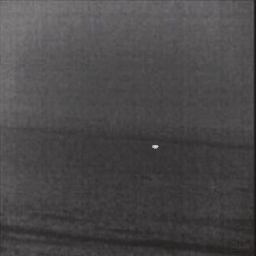Target: (150, 142, 159, 149)
